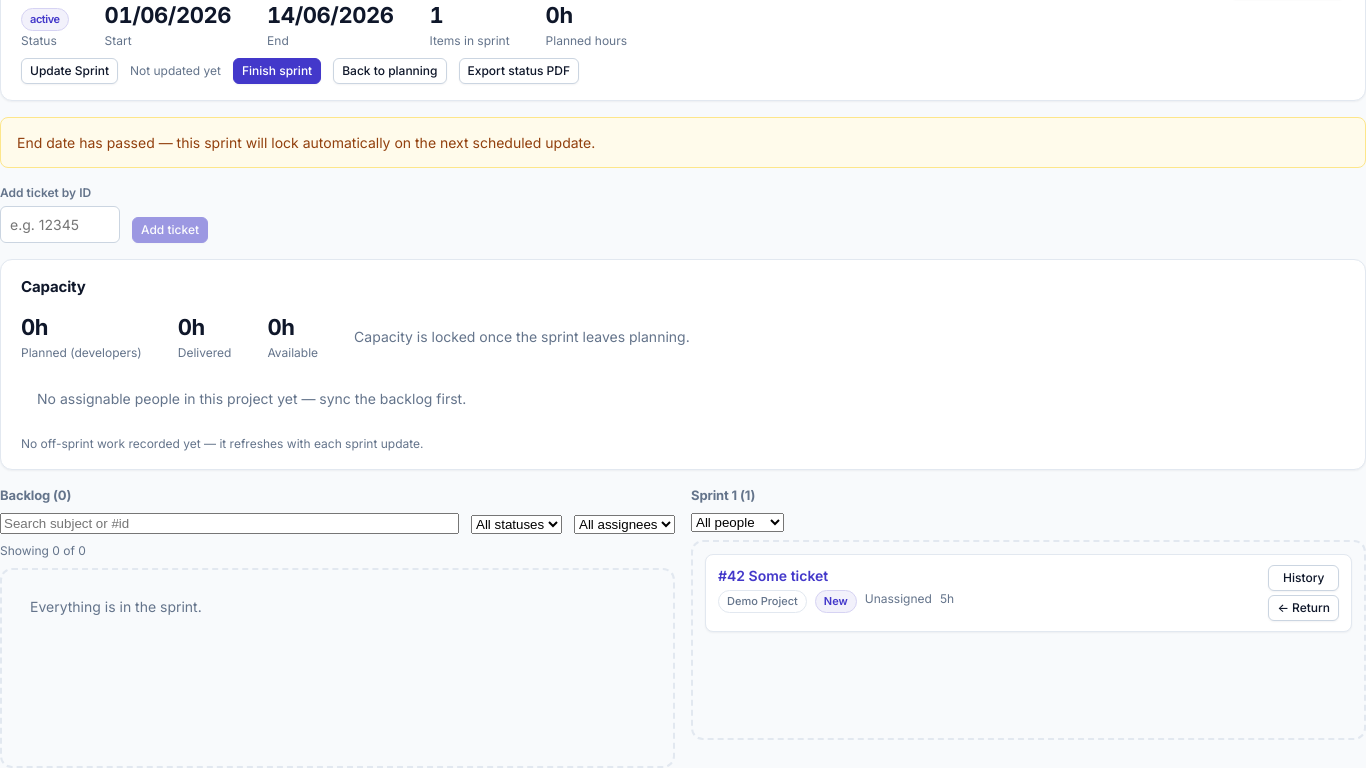
SprintBoardScreen › defaults the changelog to newest-first, toggles order, and remembers the choice for the session
(page scrolled)
Expected: the link "#42 Some ticket" is shown, top-left (718, 567), bottom-right (828, 584)
Click the button with aria-label "View changelog for #42" at (1304, 578), box top-left (1268, 565), bottom-right (1339, 591)
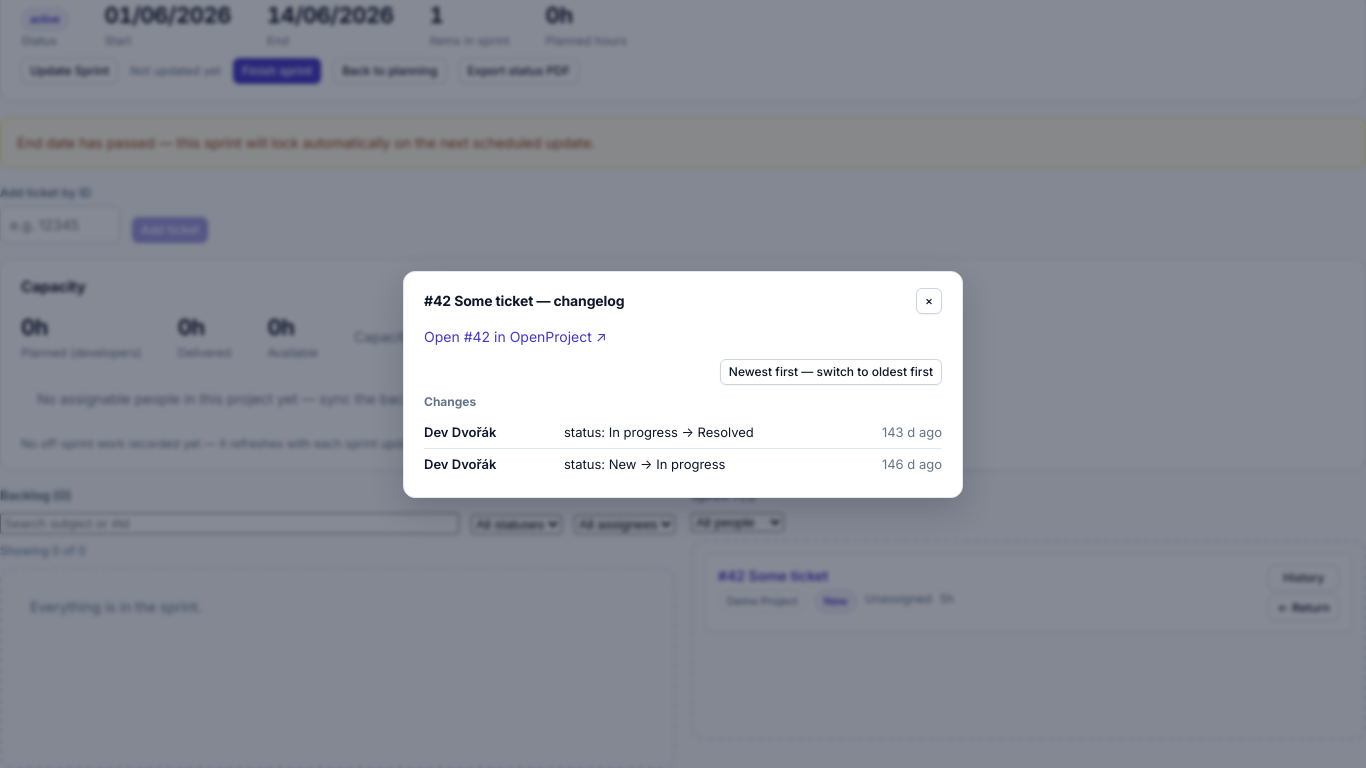
Expected: the text "status: In progress → Resolved" is shown, top-left (564, 424), bottom-right (754, 440)
Expected: the text "status: New → In progress" is shown, top-left (564, 456), bottom-right (725, 472)
// Toggle flips to oldest-first.
Click the button with test id "changelog-order-toggle" at (831, 372), box top-left (720, 358), bottom-right (942, 384)
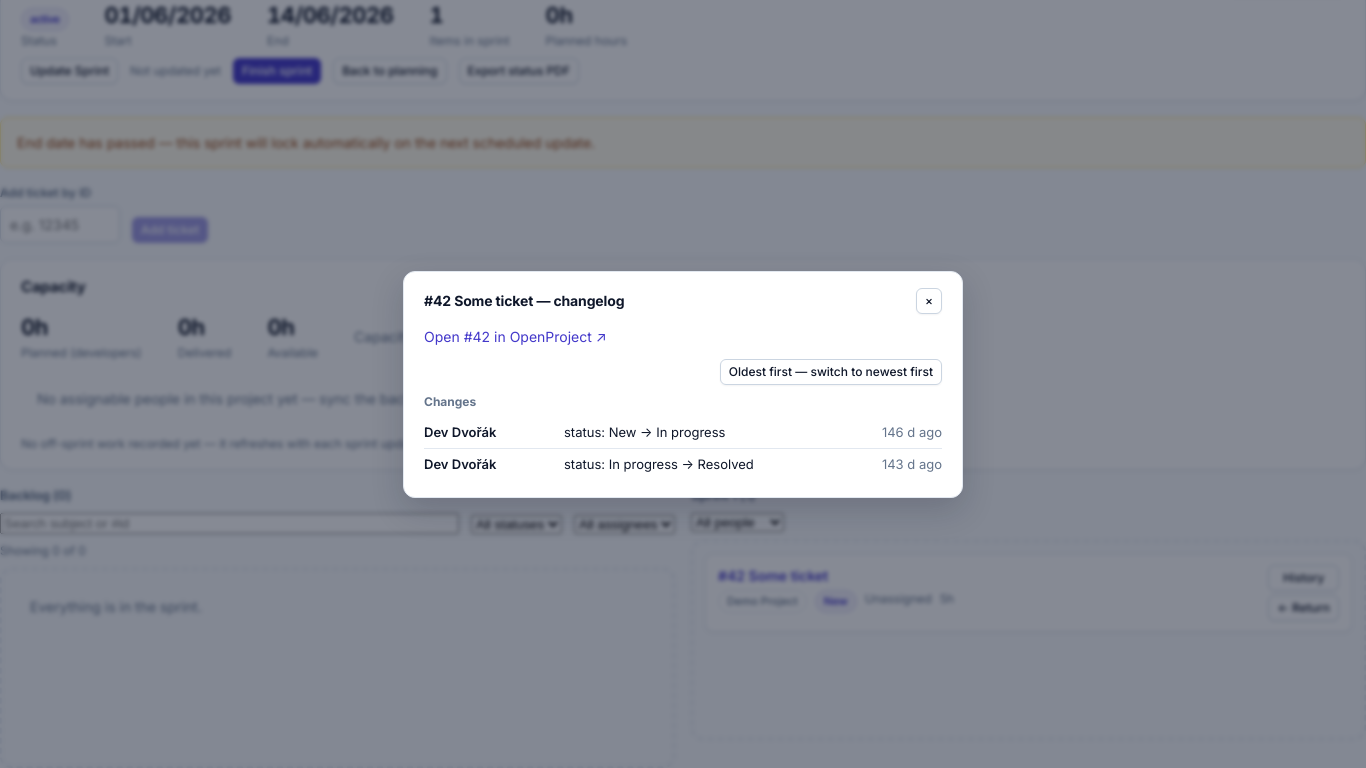
Expected: the text "status: New → In progress" is shown, top-left (564, 424), bottom-right (725, 440)
Expected: the text "status: In progress → Resolved" is shown, top-left (564, 456), bottom-right (754, 472)
// Close and reopen within the same session — "oldest" is still remembered.
Click the button named "Close" at (929, 300), box top-left (916, 288), bottom-right (942, 314)
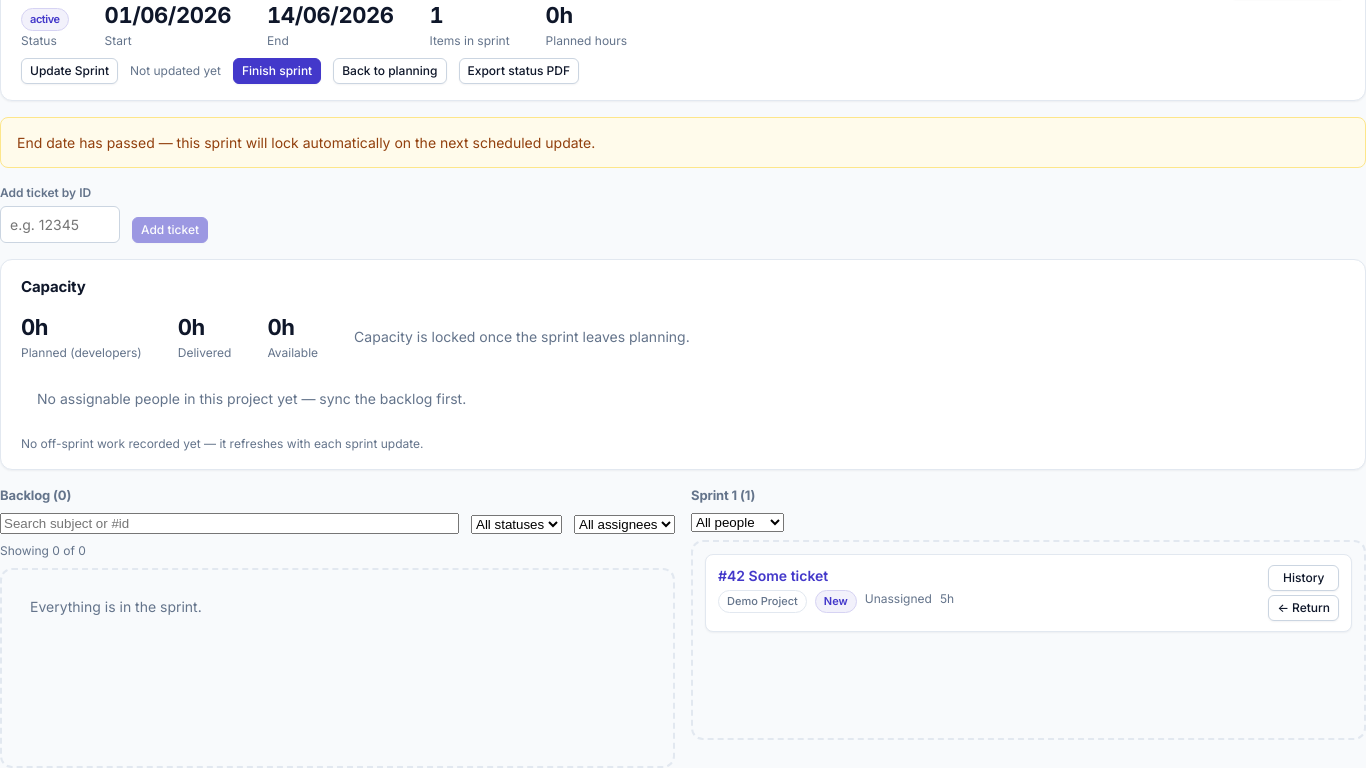
Click the button with aria-label "View changelog for #42" at (1304, 578), box top-left (1268, 565), bottom-right (1339, 591)
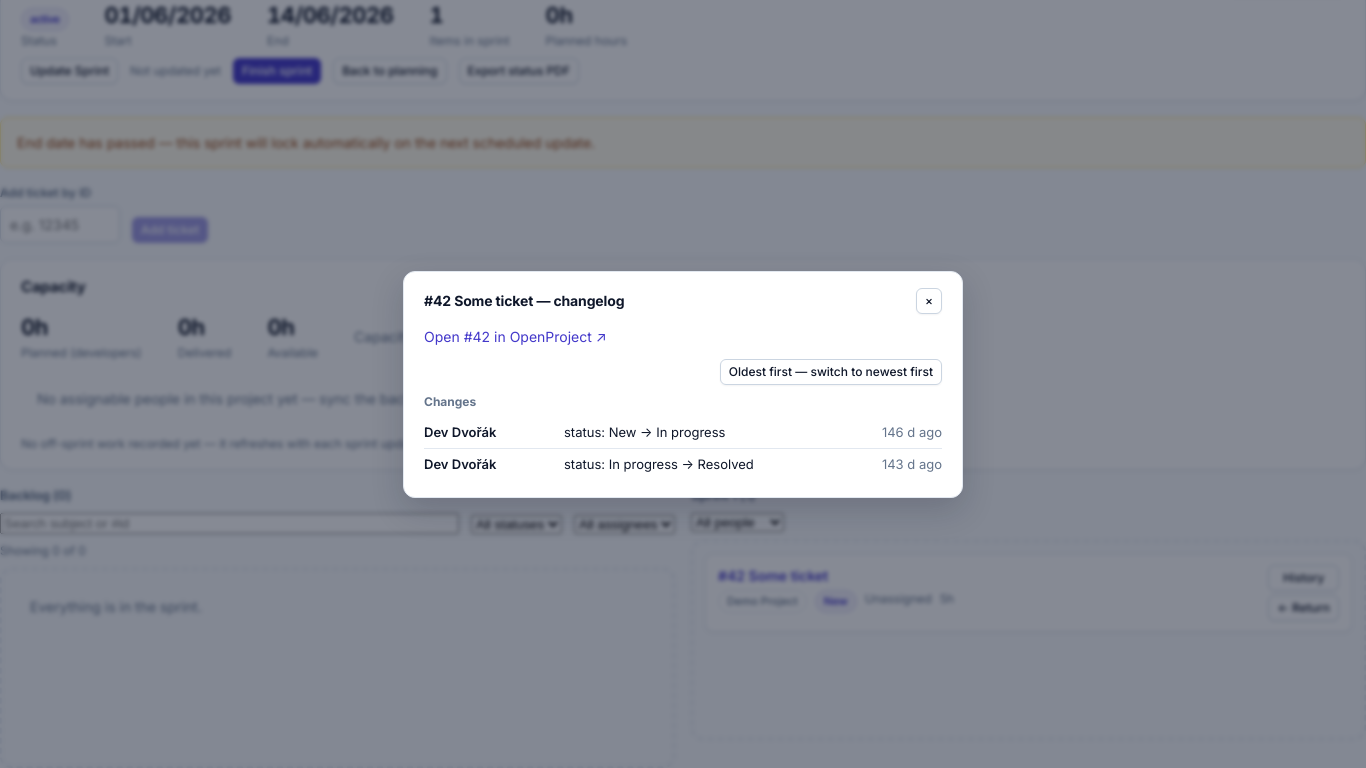
Expected: the text "status: New → In progress" is shown, top-left (564, 424), bottom-right (725, 440)
Expected: the text "status: In progress → Resolved" is shown, top-left (564, 456), bottom-right (754, 472)
